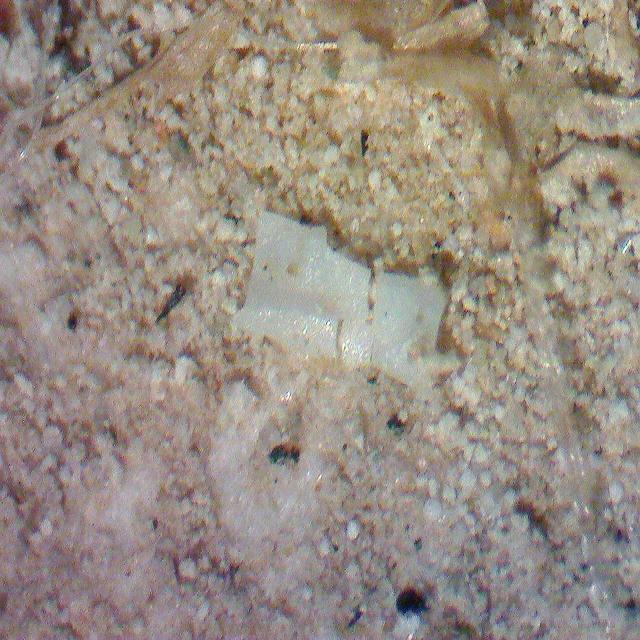microplastic: (236, 207, 443, 392)
